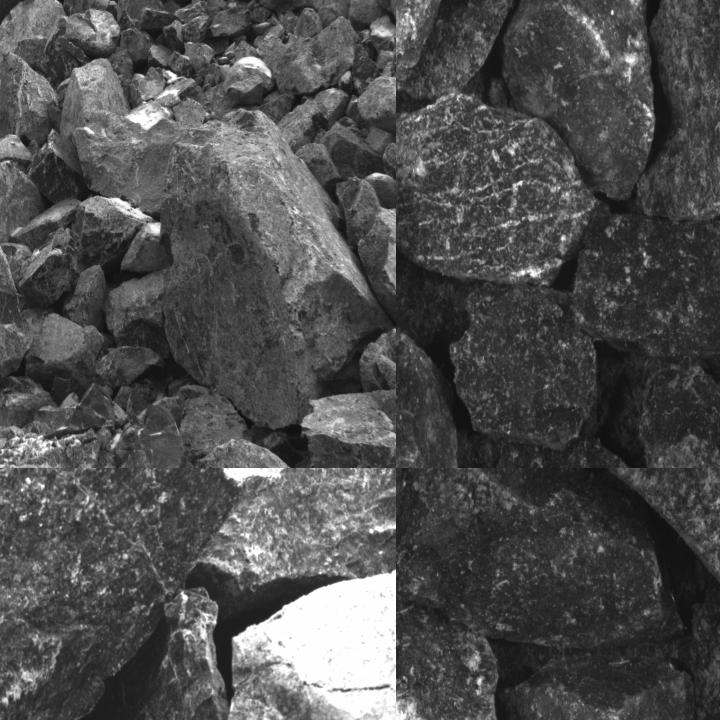stone: (162, 96, 386, 429), (0, 468, 245, 719), (396, 468, 683, 650), (0, 468, 395, 589), (396, 93, 599, 289), (503, 0, 654, 203), (575, 468, 719, 666), (225, 565, 395, 719), (451, 282, 597, 452), (575, 212, 719, 382), (636, 0, 719, 221), (405, 0, 569, 101), (396, 579, 499, 719), (396, 327, 485, 467), (77, 99, 180, 215), (639, 359, 719, 467), (274, 17, 380, 98), (0, 0, 87, 96), (301, 385, 395, 467), (25, 316, 105, 403), (71, 196, 155, 268), (59, 58, 131, 139), (0, 52, 61, 146), (350, 206, 395, 320), (18, 228, 80, 310), (119, 399, 192, 467), (0, 186, 25, 382), (493, 439, 649, 467), (316, 121, 384, 179), (29, 132, 85, 202), (43, 9, 121, 57), (178, 441, 313, 467), (296, 142, 350, 202), (13, 200, 81, 247), (95, 346, 165, 388), (350, 76, 395, 139), (66, 263, 105, 328), (0, 0, 58, 34), (212, 7, 252, 41), (140, 7, 184, 32), (365, 125, 395, 160), (61, 0, 120, 15), (181, 15, 208, 43), (147, 43, 174, 67), (259, 0, 310, 11), (391, 28, 395, 84)
